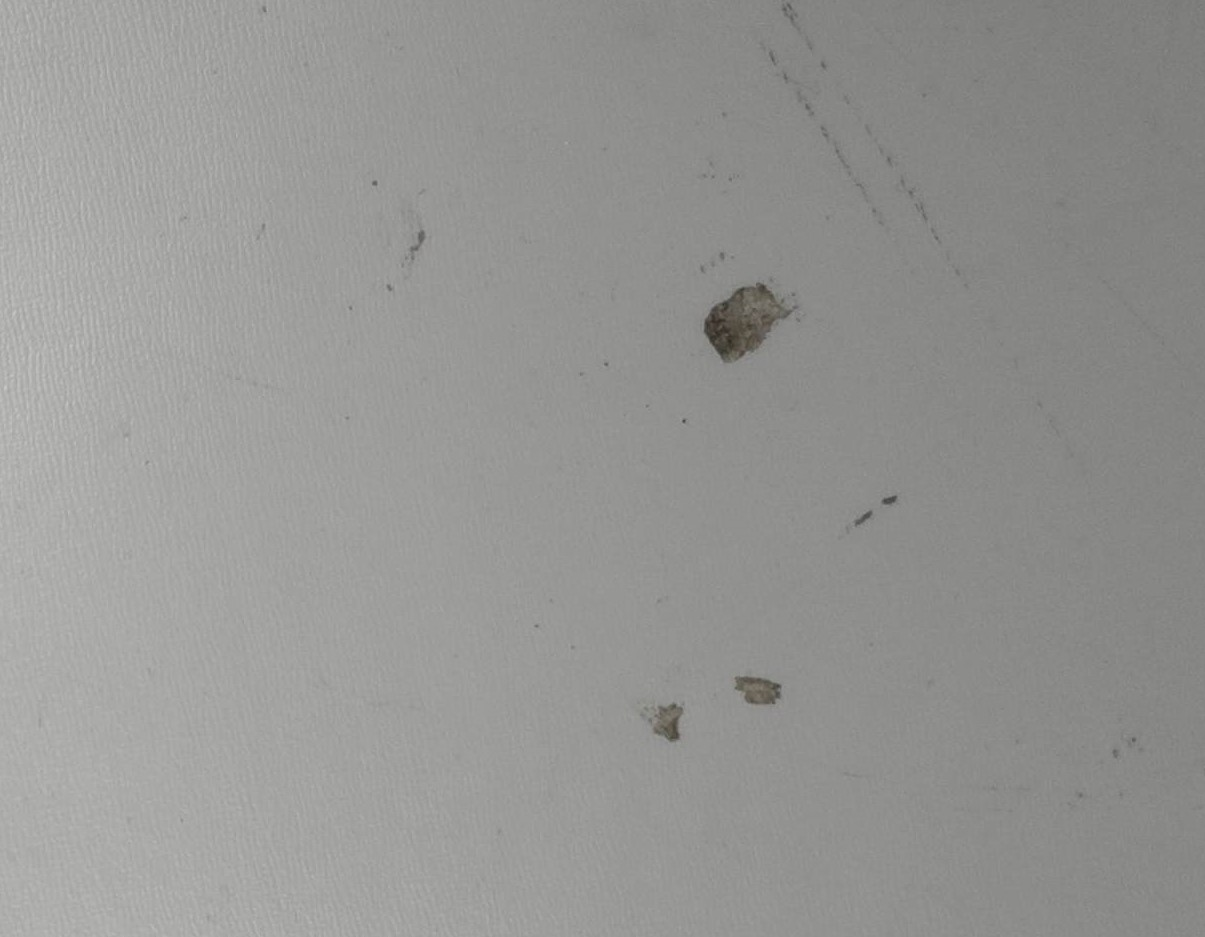grey spot: (703, 282, 793, 364), (639, 700, 685, 740), (736, 678, 782, 707)
